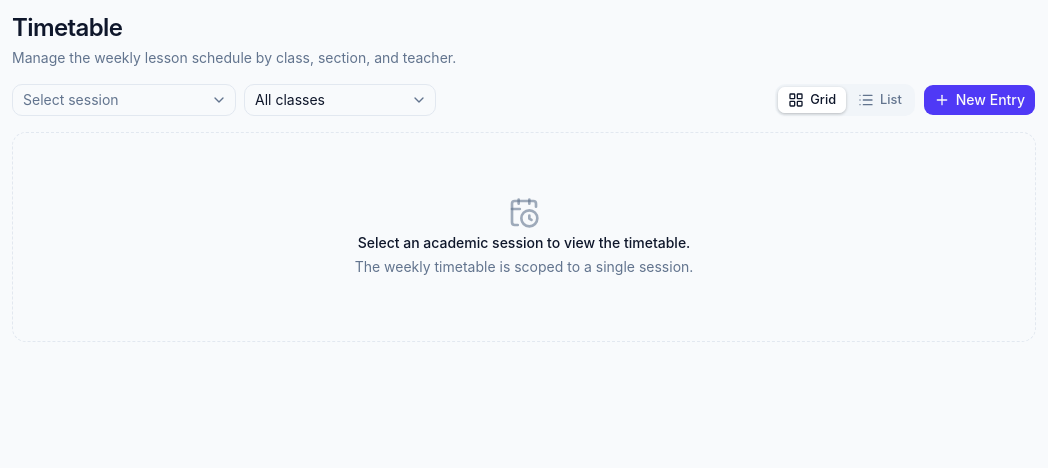
Test: TimetablePage session gating › keeps the print action hidden until a session is selected
Expected: the button "Print timetable" is not shown
Press the mouse on the dropdown named "Academic session" at (124, 100), box left=12, top=84, right=236, bottom=116
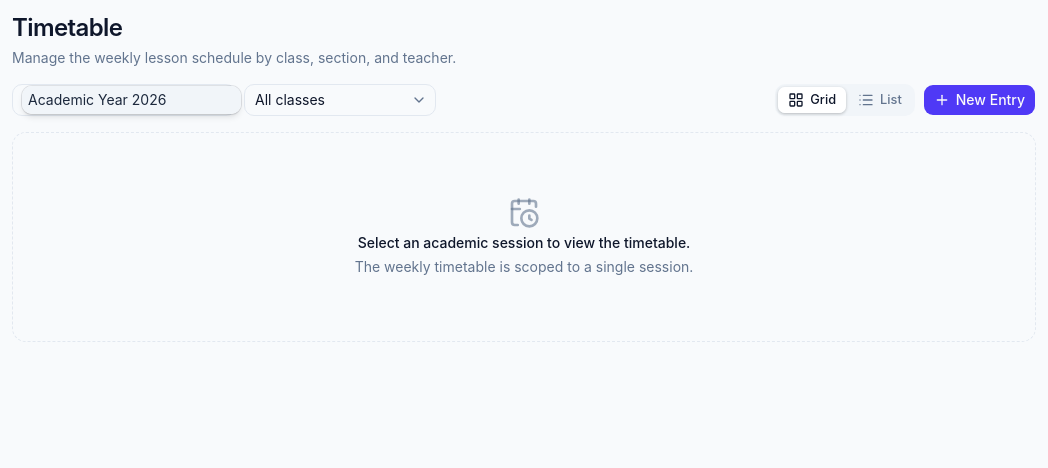
Click the option "Academic Year 2026". click: (132, 100)
box: left=22, top=86, right=241, bottom=114
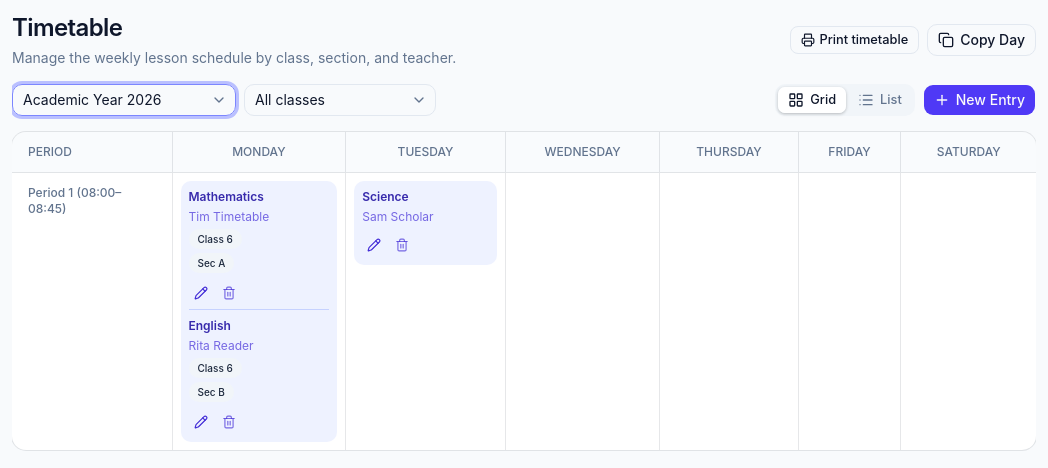
Now the button "Print timetable" is shown, box left=790, top=26, right=919, bottom=54
